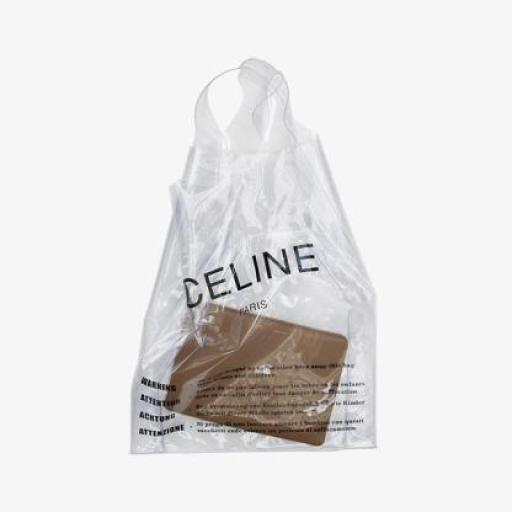plastic bag: (113, 56, 405, 470)
